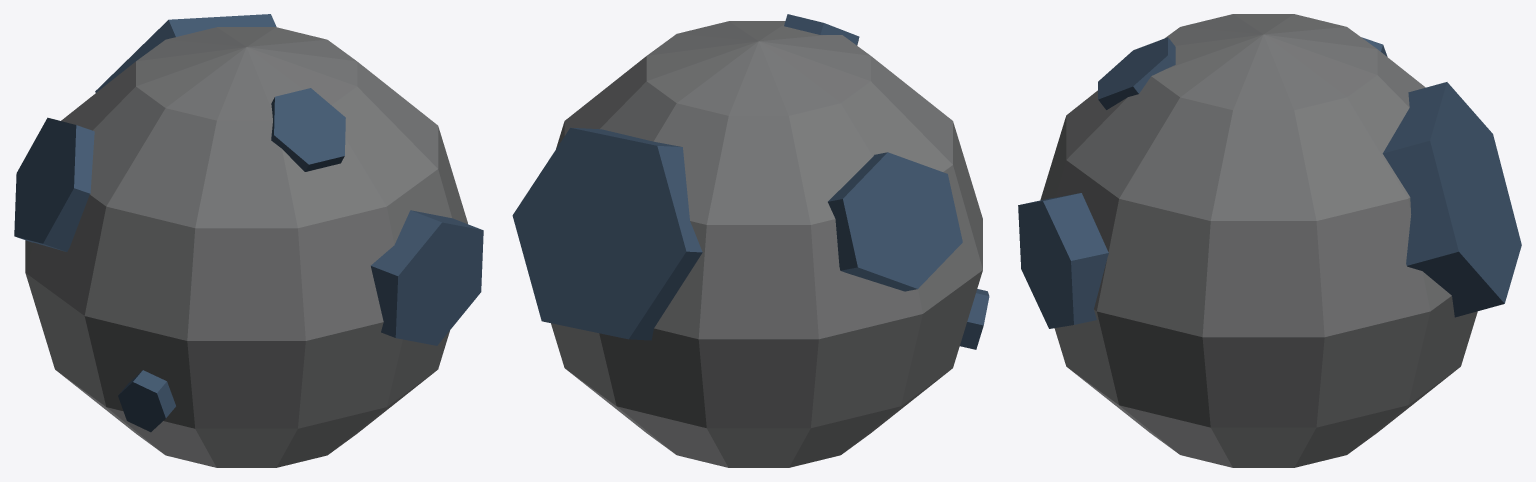
File: AsteroidGraphene.gltf
3 views of the same model, side by side, from view 1: azimuth 30°, elevation 25°; view 2: azimuth 150°, elevation 25°; view 3: azimuth 270°, elevation 25° (orthographic). The views are drawn at different scales.
Parts seen in each view (by area): view 1: AsteroidBody, GrapheneFrag5, GrapheneFrag2, GrapheneFrag1, GrapheneFrag4, GrapheneFrag3; view 2: AsteroidBody, GrapheneFrag3, GrapheneFrag2, GrapheneFrag4, GrapheneFrag1; view 3: AsteroidBody, GrapheneFrag3, GrapheneFrag5, GrapheneFrag1.
Part boxes in pixels (x1,y1,x2,y2): AsteroidBody: (25, 27, 467, 467); GrapheneFrag5: (371, 210, 483, 345); GrapheneFrag2: (14, 117, 94, 251); GrapheneFrag1: (271, 88, 345, 171); GrapheneFrag4: (118, 370, 175, 432); GrapheneFrag3: (95, 14, 276, 92); AsteroidBody: (551, 21, 982, 467); GrapheneFrag3: (512, 127, 702, 340); GrapheneFrag2: (828, 152, 962, 291); GrapheneFrag4: (960, 289, 989, 349); GrapheneFrag1: (784, 14, 859, 45); AsteroidBody: (1040, 14, 1477, 467); GrapheneFrag3: (1382, 82, 1521, 317); GrapheneFrag5: (1018, 193, 1108, 328); GrapheneFrag1: (1098, 37, 1175, 109).
Bounding box in the file's own units: 0.2571 × 0.25 × 0.2763.
2 materials, 2 textured.
